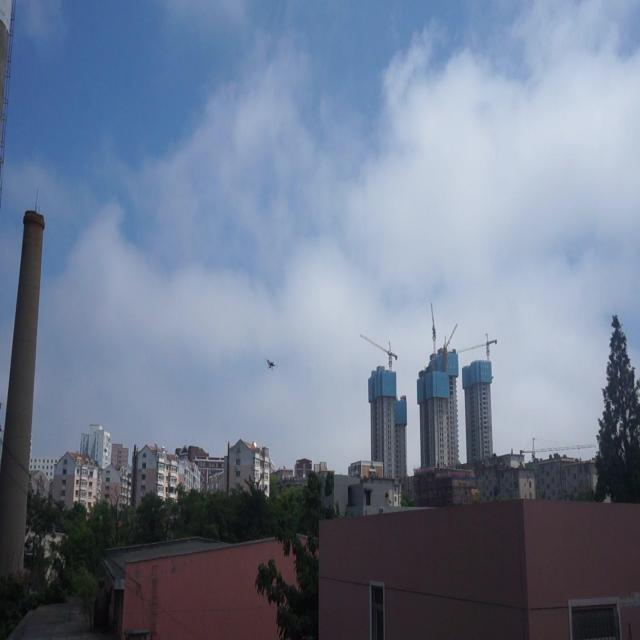UAV: (265, 357, 278, 371)
